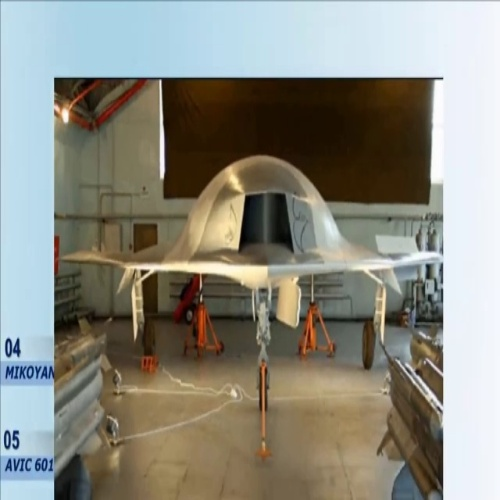uav: (59, 151, 445, 324)
